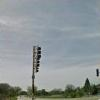Traffic light: (29, 46, 51, 80)
